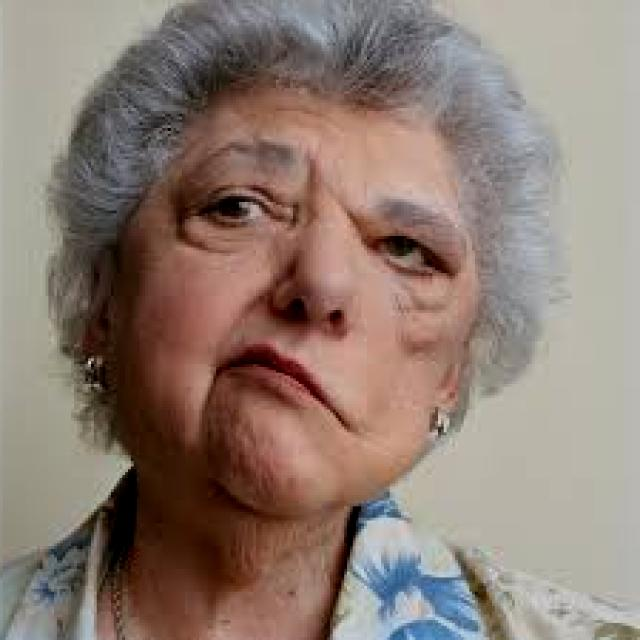stroke_face: (81, 53, 494, 532)
